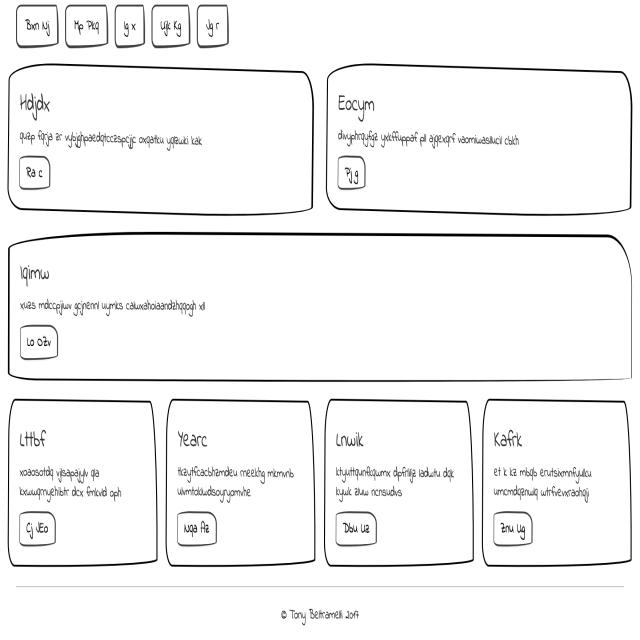Button: (177, 510, 219, 548), (334, 511, 377, 547), (492, 509, 532, 547), (18, 324, 60, 357), (20, 512, 58, 548), (19, 155, 53, 193), (336, 155, 366, 193)
Card: (8, 235, 633, 386), (7, 61, 314, 216), (325, 62, 631, 217), (481, 397, 640, 567), (166, 398, 316, 568), (326, 397, 474, 569), (8, 398, 159, 564)
Footer: (0, 585, 640, 640)
Heading 6: (336, 91, 375, 122), (18, 90, 52, 123), (17, 262, 53, 290), (16, 425, 51, 450), (334, 431, 372, 454), (494, 428, 524, 453), (176, 430, 209, 450)
Navigation Bar: (15, 3, 230, 51)
Paragraph: (174, 456, 295, 504), (333, 459, 458, 504), (337, 126, 523, 154), (15, 461, 125, 507), (17, 125, 203, 152), (491, 460, 596, 504), (18, 298, 209, 314)
